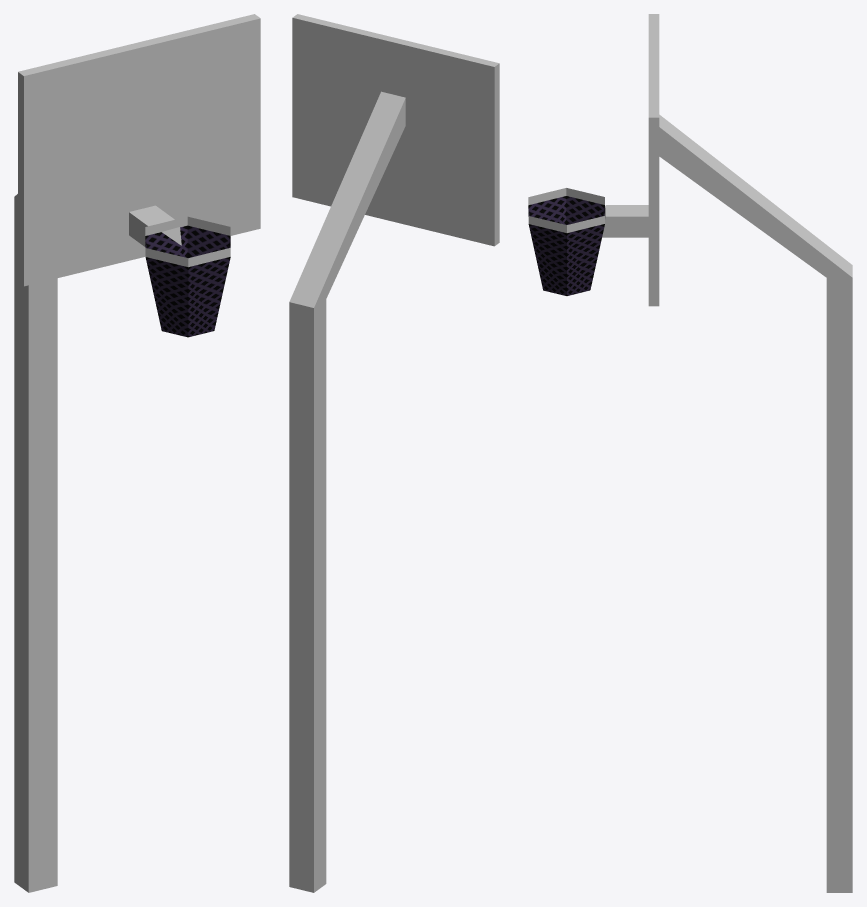
The model's file is SM_BasketBallHoop.fbx.
The picture shows the model from 3 angles, left to right: view 1: azimuth 30°, elevation 25°; view 2: azimuth 150°, elevation 25°; view 3: azimuth 270°, elevation 25°; orthographic projection. The views are drawn at different scales.
Parts seen in each view (by area): view 1: BasketballHoop; view 2: BasketballHoop; view 3: BasketballHoop.
Part boxes in pixels (x1=…): BasketballHoop: x1=14, y1=14, x2=260, y2=892; BasketballHoop: x1=289, y1=14, x2=499, y2=892; BasketballHoop: x1=528, y1=14, x2=852, y2=892.
Bounding box in the file's own units: 0.8407 × 3.1 × 1.11.
